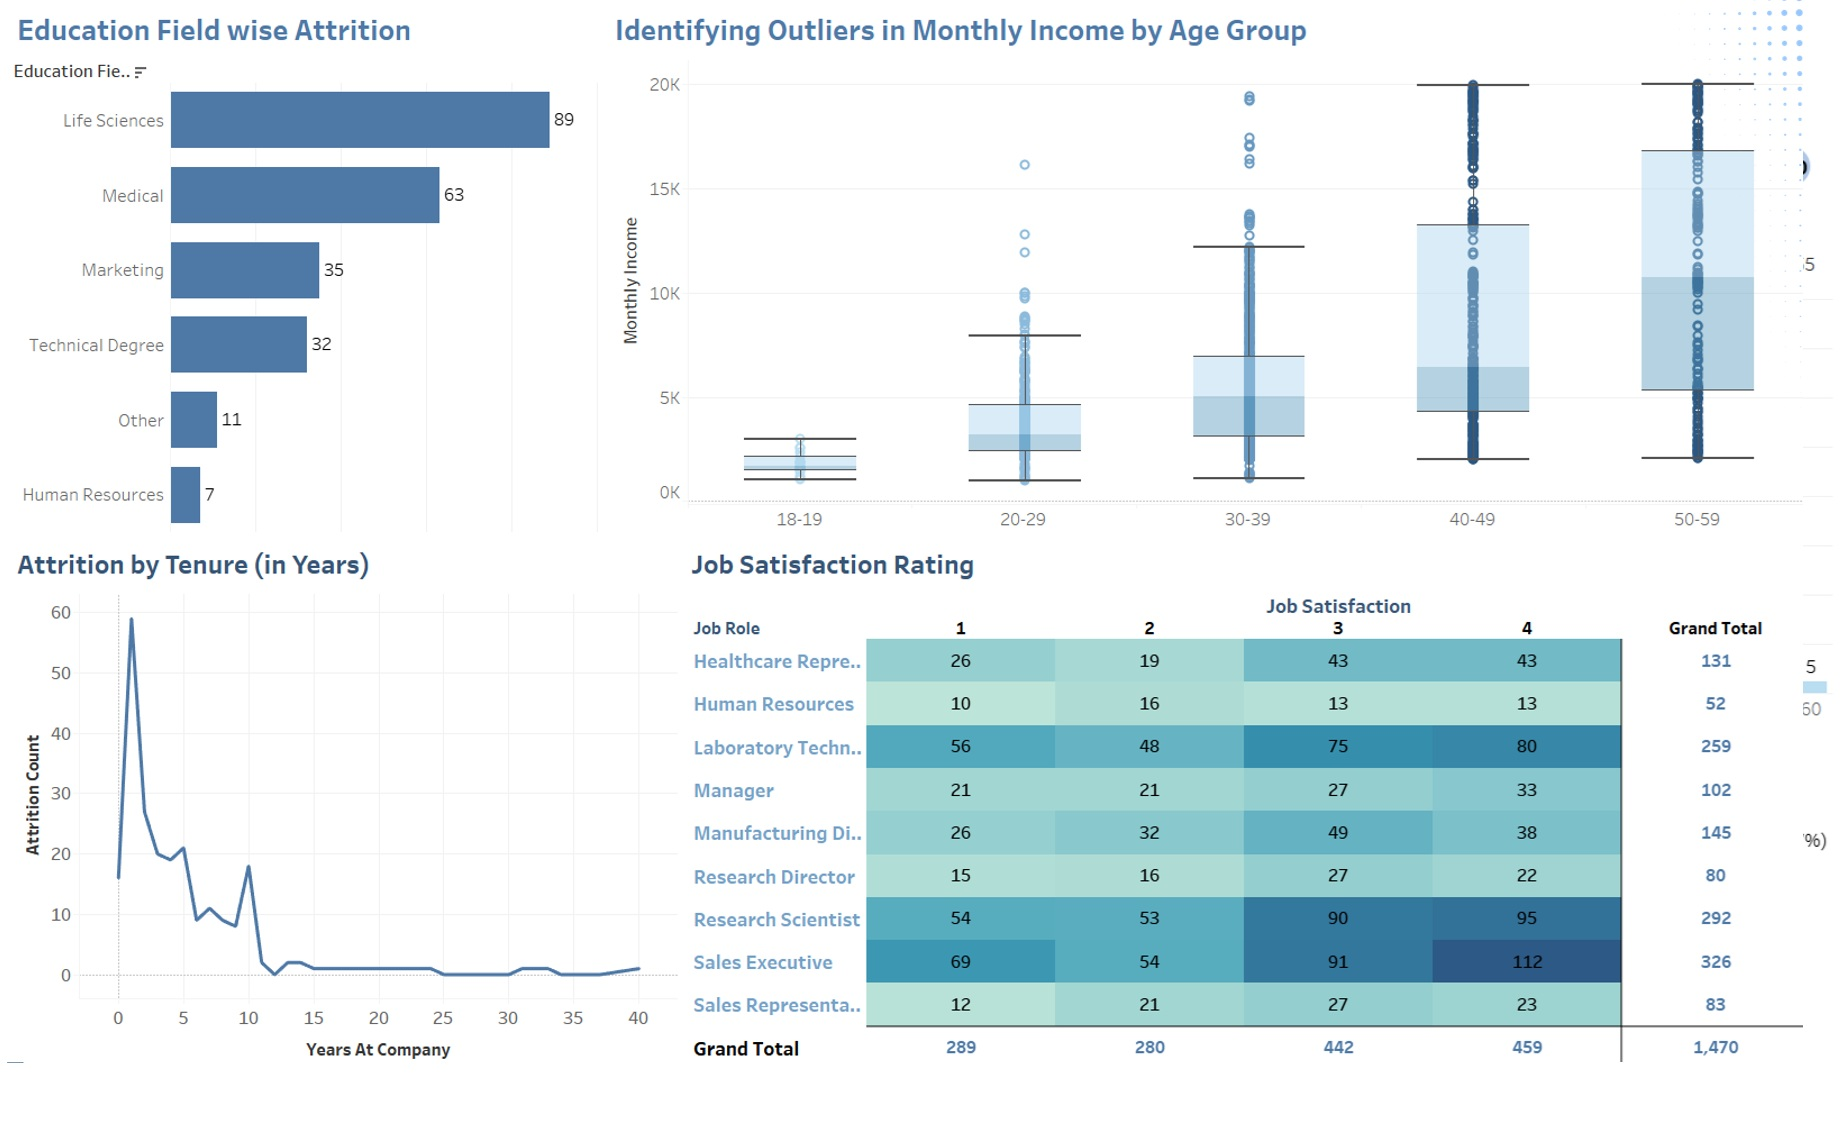

The page's visual inventory and layout, read from the dashboard file:
{"tool":"tableau","page":{"name":"Dashboard 2","canvas":[1000,1000],"units":"permille","ordinal":1},"visuals":[{"type":"worksheet","title":"Education Field wise Attrition","mark":"Automatic","rows":["Education Field"],"cols":["Calculation_3415698865412653057"],"box":[4.7,8.2,327.9,491.7]},{"type":"worksheet","title":"Identifying Outliers in Monthly Income by Age Group","mark":"Shape","rows":["Monthly Income"],"cols":["Calculation_628252171069906944"],"box":[332.6,8.2,662.7,491.7]},{"type":"worksheet","title":"Attrition by Tenure","mark":"Line","rows":["Calculation_3415698865412653057"],"cols":["Years At Company"],"box":[4.7,500,369.4,491.8]},{"type":"worksheet","title":"Job Satisfaction Rating","mark":"Square","rows":["Job Role"],"cols":["Job Satisfaction"],"box":[374.1,500,621.2,491.8]}]}

Visuals, with their boxes on the dashboard's canvas, which has no fixed pixel size, in thousandths of its width and height (x1, y1, x2, y2). These are canvas units, not pixel positions in the 1841x1126 screenshot, which may show the page scaled, cropped or inside an application window:
"Education Field wise Attrition" worksheet: [left=5, top=8, right=333, bottom=500]
"Identifying Outliers in Monthly Income by Age Group" worksheet (Shape marks): [left=333, top=8, right=995, bottom=500]
"Attrition by Tenure" worksheet (Line marks): [left=5, top=500, right=374, bottom=992]
"Job Satisfaction Rating" worksheet (Square marks): [left=374, top=500, right=995, bottom=992]
